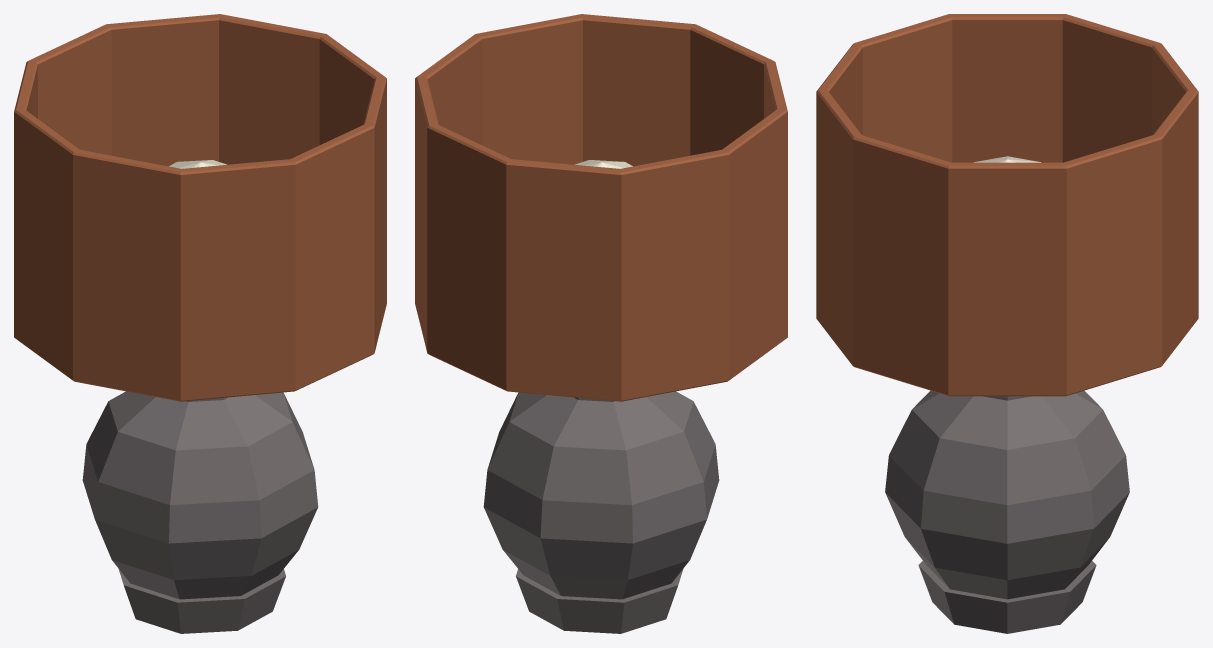
File: TableLamp1.glb
3 views of the same model, side by side, from view 1: azimuth 30°, elevation 25°; view 2: azimuth 150°, elevation 25°; view 3: azimuth 270°, elevation 25° (orthographic).
Visible parts, largest first — view 1: TableLamp1; view 2: TableLamp1; view 3: TableLamp1.
Part boxes in pixels (bbox=[...]): TableLamp1: bbox=[14, 14, 386, 633]; TableLamp1: bbox=[415, 14, 787, 633]; TableLamp1: bbox=[816, 14, 1198, 633].
Bounding box in the file's own units: 0.2968 × 0.4609 × 0.3121.
